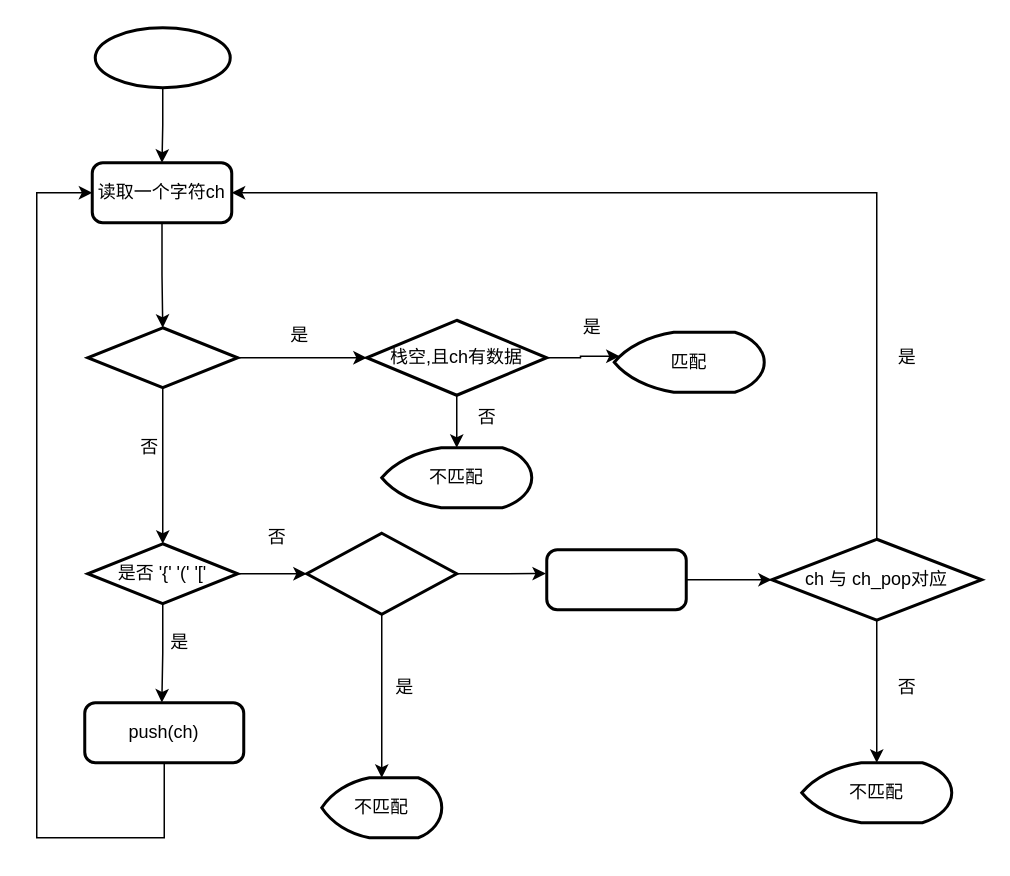
Image size: 1010x876. Some labels were removed from this diagram. The shapes that lost their labels are listed below. From the top down, each one's centre as x and y in pixels, then its label:
the point at 162,57: 开始
the point at 162,357: 是否回车键
the point at 381,573: 栈是否为空
the point at 615,579: 出栈一个字符ch_pop
